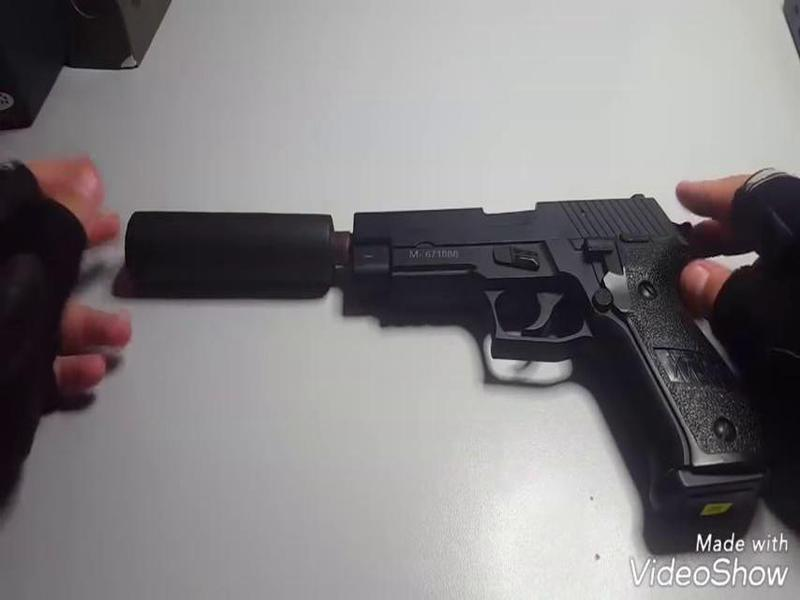Pistola: (349, 185, 778, 532)
